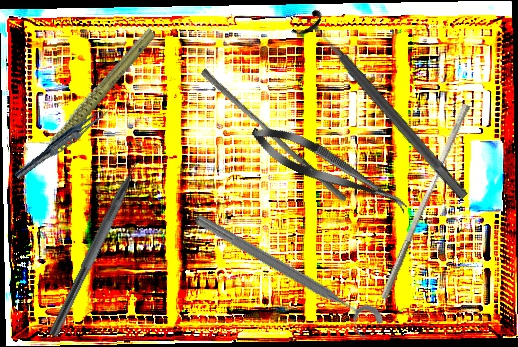Chopper: (47, 143, 159, 345)
Fixation Ring: (290, 6, 479, 210), (184, 207, 389, 346)
Handpiece: (6, 26, 178, 168)
Micro Scissor: (245, 116, 415, 222)
Pusher: (195, 68, 353, 203), (380, 100, 471, 304)
Tissue Forceps: (12, 101, 113, 184)
